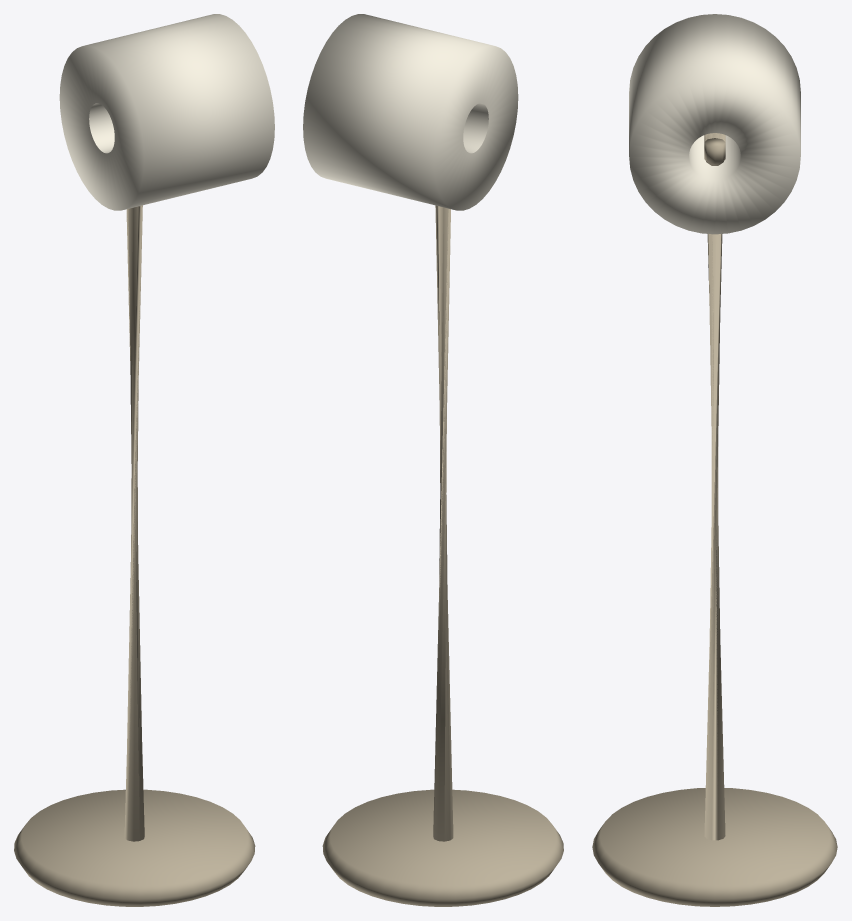
The model's file is paper_holder.glb.
3 views of the same model, side by side, from view 1: azimuth 30°, elevation 25°; view 2: azimuth 150°, elevation 25°; view 3: azimuth 270°, elevation 25° (orthographic).
Parts seen in each view (by area): view 1: paper_holder__paper, paper_holder__body; view 2: paper_holder__paper, paper_holder__body; view 3: paper_holder__paper, paper_holder__body.
Part boxes in pixels (x1=…): paper_holder__paper: x1=59, y1=14, x2=274, y2=210; paper_holder__body: x1=14, y1=205, x2=255, y2=906; paper_holder__paper: x1=303, y1=14, x2=518, y2=210; paper_holder__body: x1=322, y1=205, x2=563, y2=906; paper_holder__paper: x1=629, y1=14, x2=800, y2=234; paper_holder__body: x1=592, y1=133, x2=837, y2=906.
Size of the model in its own units: 0.166 by 0.596 by 0.16.
